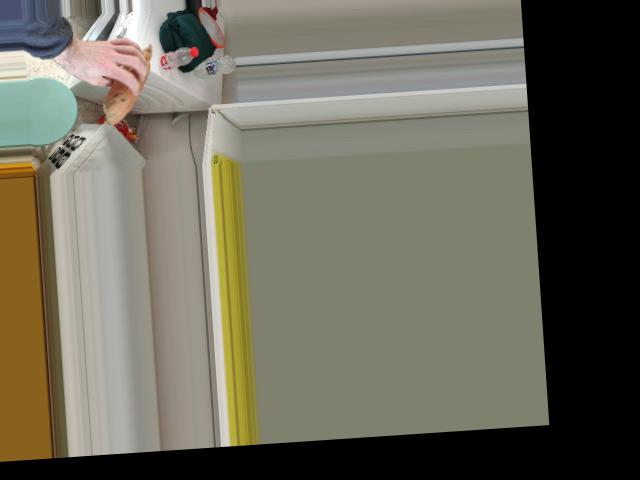sweet_potato: (98, 41, 153, 122)
